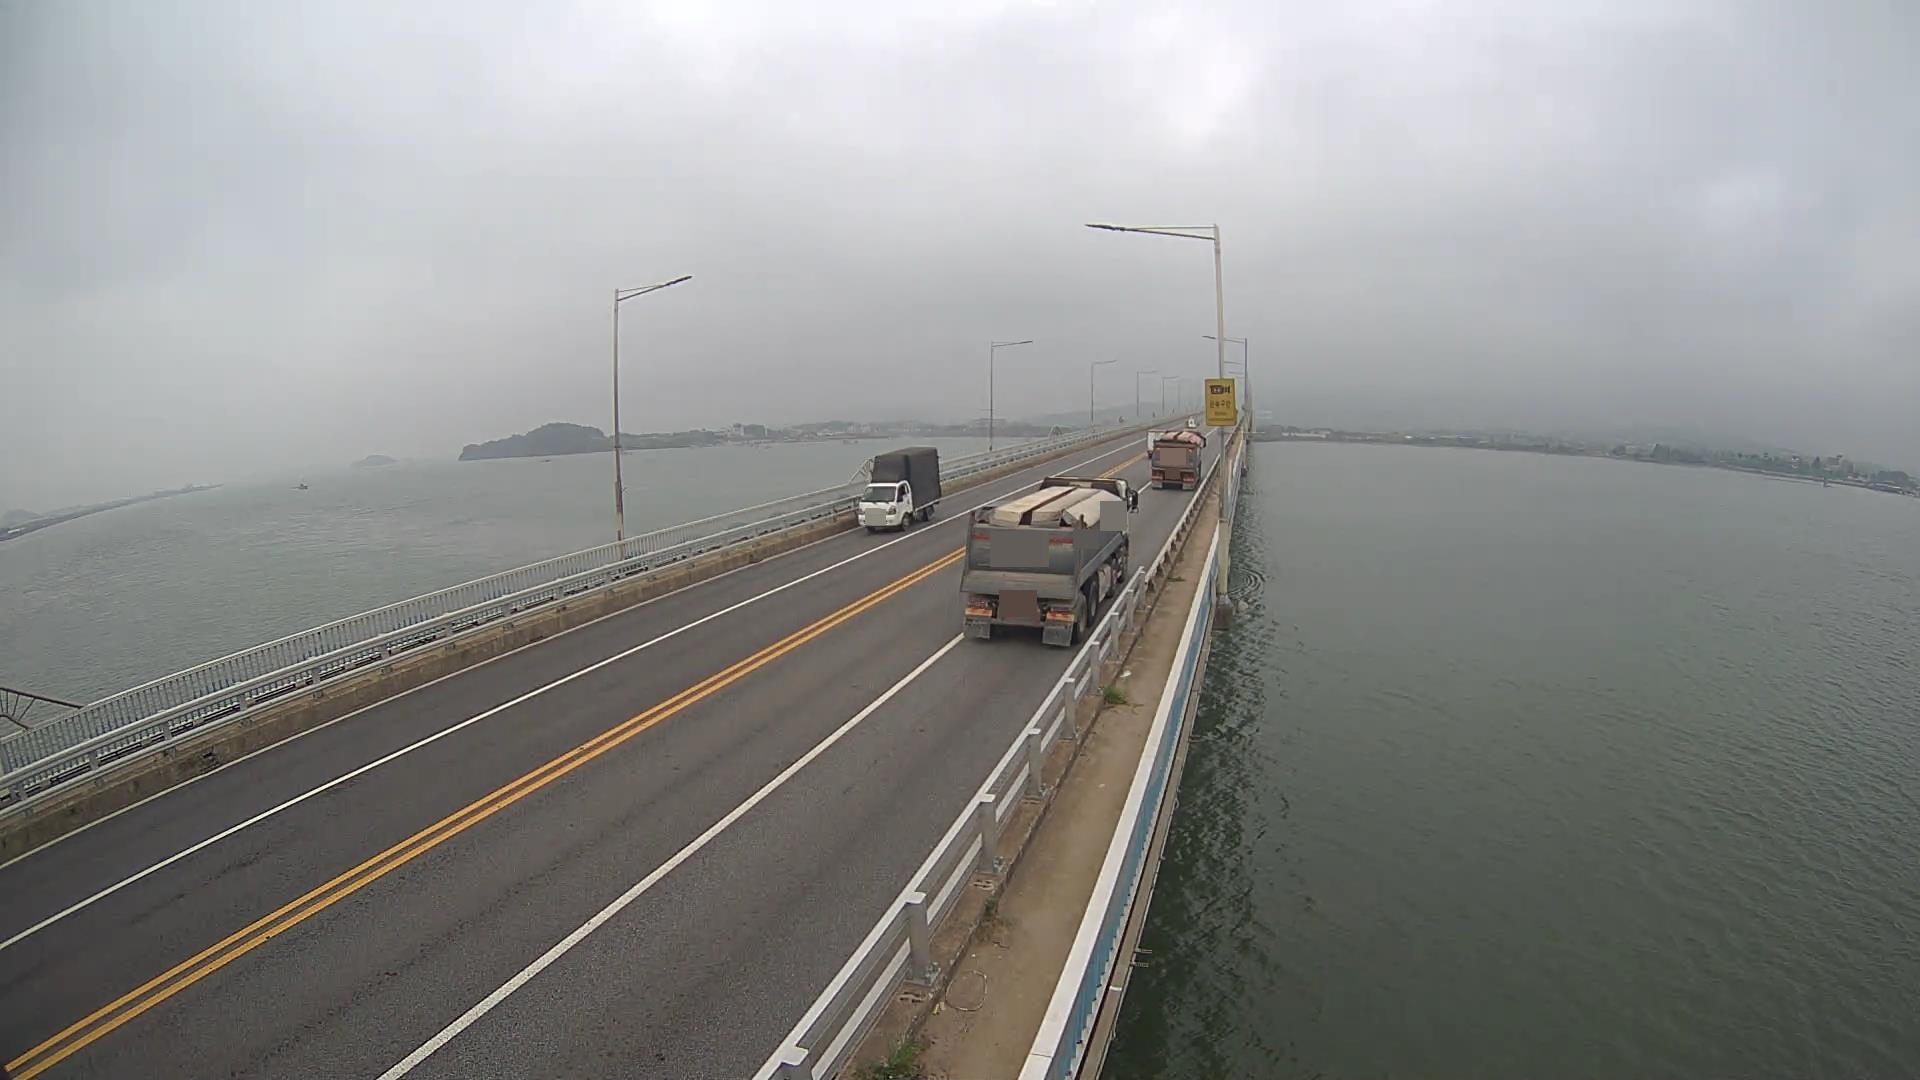정상차량: (960, 476, 1139, 646)
